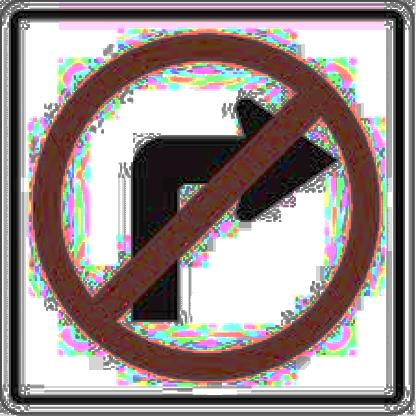No right turn: (39, 30, 377, 375)
